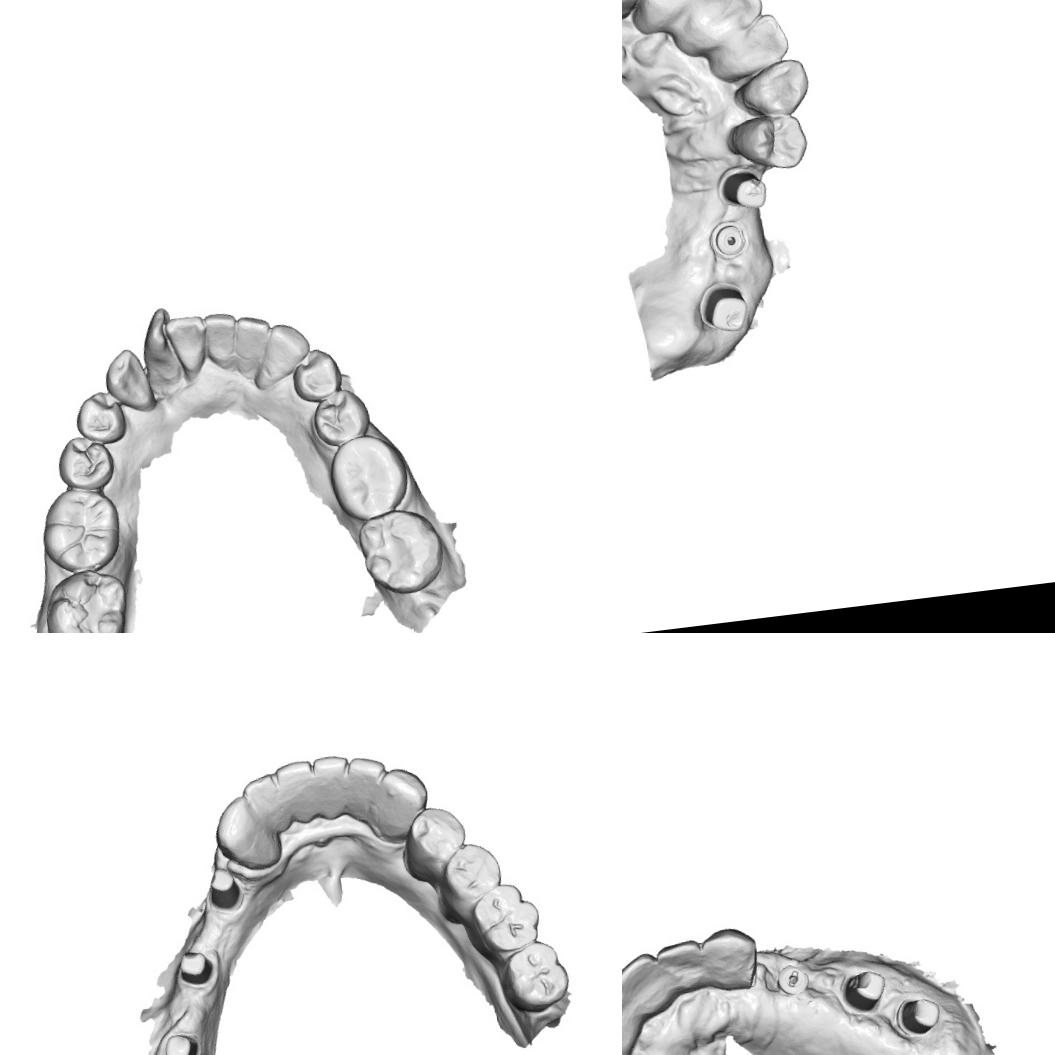abutment: (693, 276, 754, 338), (716, 164, 770, 216), (200, 862, 246, 914), (172, 944, 220, 990), (842, 965, 888, 1012), (900, 993, 941, 1040), (156, 1026, 204, 1055)
canine: (212, 789, 285, 876), (368, 763, 434, 842), (736, 55, 813, 120), (697, 921, 761, 996), (101, 344, 158, 416), (253, 321, 314, 384)
implant: (707, 217, 751, 261)
implant_minus: (774, 960, 813, 998)
incisor: (721, 10, 792, 75), (136, 305, 184, 391), (236, 767, 291, 840), (340, 752, 393, 822), (309, 751, 356, 823), (272, 757, 321, 826), (652, 935, 708, 995), (163, 312, 211, 380), (685, 0, 767, 39), (622, 947, 663, 1012), (202, 310, 242, 370), (232, 313, 274, 359), (636, 0, 722, 19)
molar: (354, 505, 449, 599), (324, 429, 414, 525), (36, 483, 126, 578), (461, 878, 545, 962), (493, 936, 574, 1018), (39, 564, 133, 633)
premolar: (432, 838, 508, 923), (396, 800, 472, 883), (732, 110, 810, 175), (308, 384, 374, 451), (53, 432, 117, 494), (288, 345, 346, 406), (72, 387, 128, 448)
